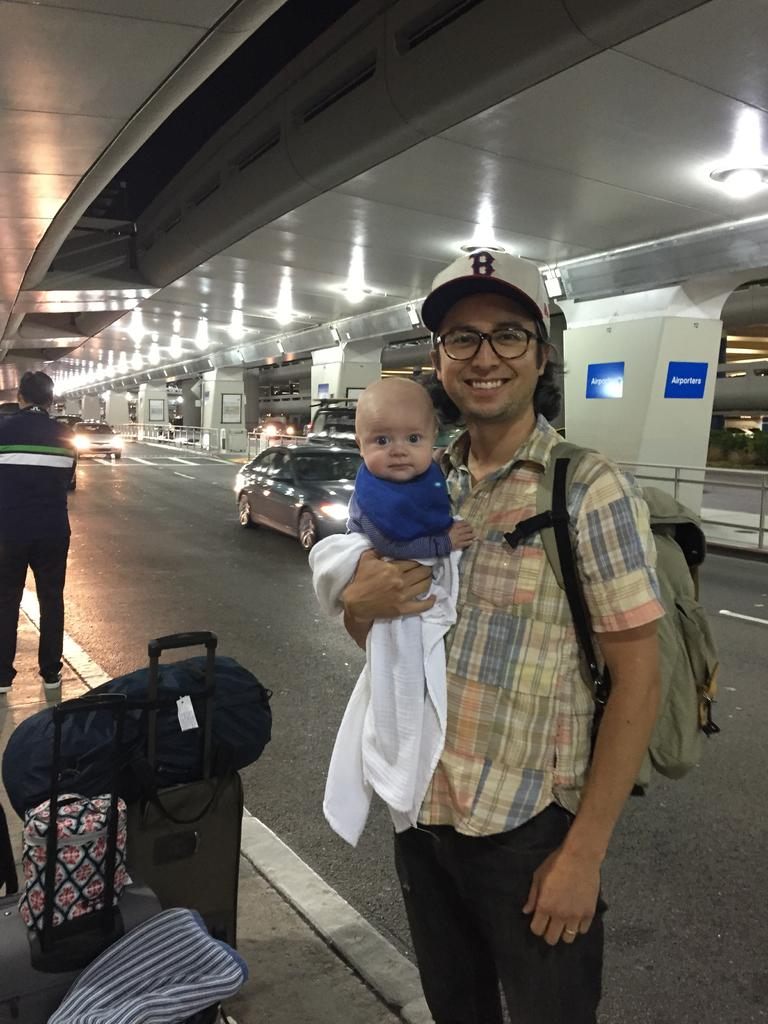Luggage-and-bags: (495, 435, 730, 793), (116, 634, 252, 977), (0, 663, 264, 811), (19, 695, 135, 972)
